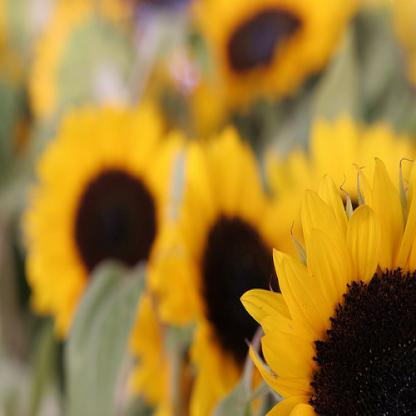SUN FLOWER: (16, 6, 410, 408)
